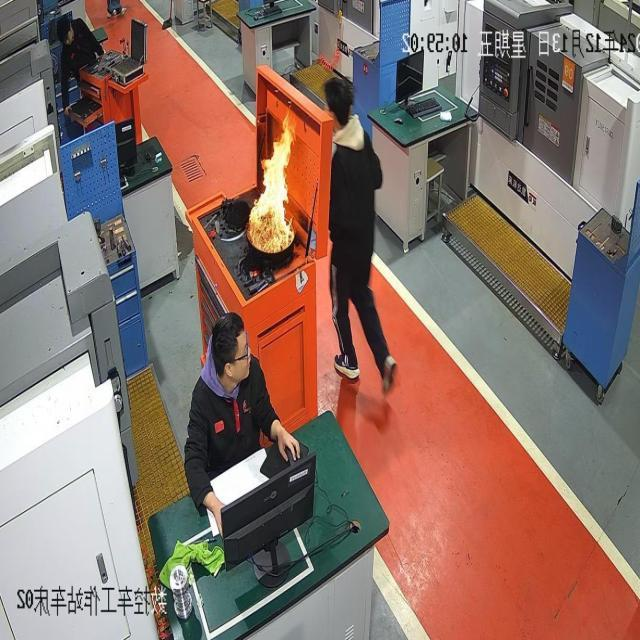smoke: (248, 112, 298, 254)
